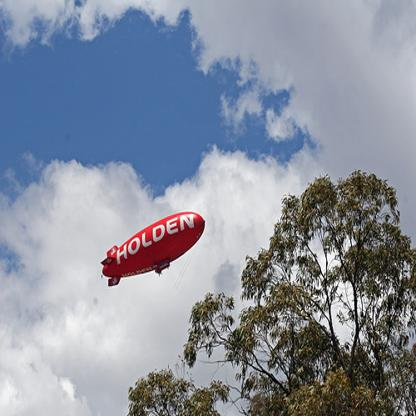Airship: (101, 207, 206, 293)
